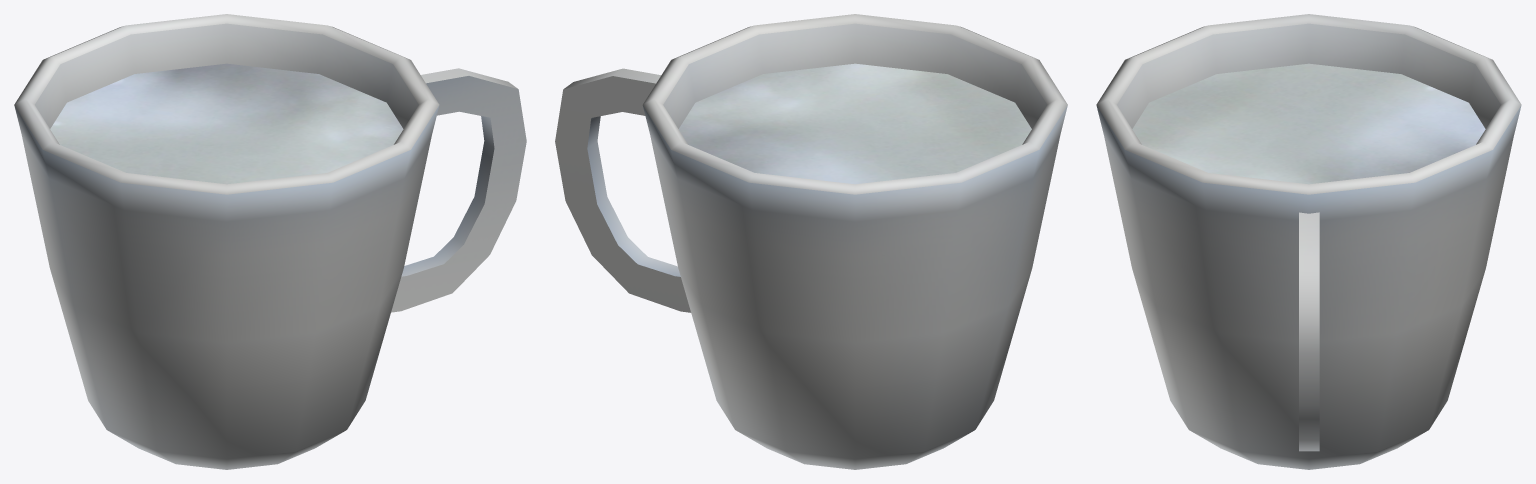
File: prop_foodmenu20c.fbx
3 renders of one model, left to right at view 1: azimuth 30°, elevation 25°; view 2: azimuth 150°, elevation 25°; view 3: azimuth 270°, elevation 25°, orthographic.
Visible parts, largest first — view 1: prop_foodmenu20c; view 2: prop_foodmenu20c; view 3: prop_foodmenu20c.
Part boxes in pixels (x1,y1,x2,y2): prop_foodmenu20c: [14, 14, 526, 469]; prop_foodmenu20c: [555, 14, 1067, 469]; prop_foodmenu20c: [1096, 14, 1521, 469].
Bounding box in the file's own units: 0.1311 × 0.0857 × 0.1008.
